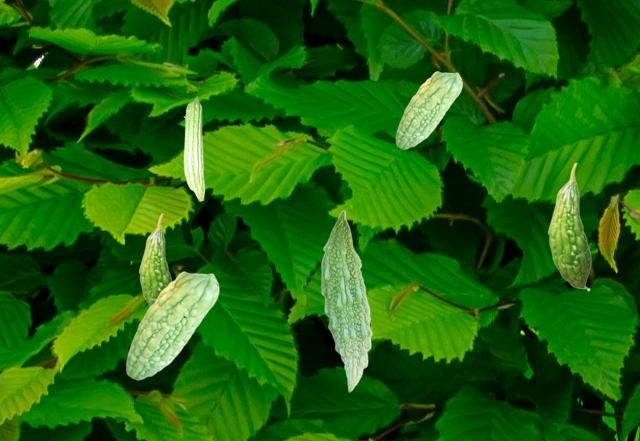ampalaya: (125, 271, 220, 380), (320, 209, 373, 392), (547, 162, 591, 291), (395, 70, 463, 149), (138, 213, 172, 305), (183, 96, 205, 202)
